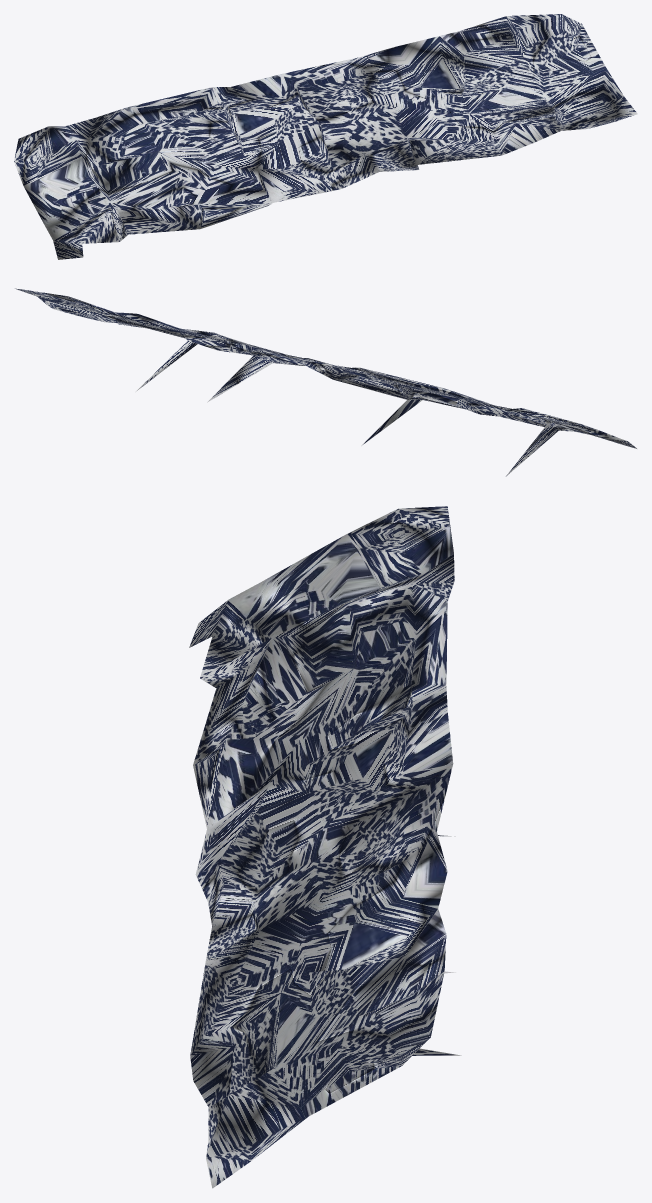
The model's file is solar_lod1.glb.
The picture shows the model from 3 angles, top to bottom: view 1: azimuth 30°, elevation 25°; view 2: azimuth 150°, elevation 25°; view 3: azimuth 270°, elevation 25°; orthographic projection. The views are drawn at different scales.
Bounding box in the file's own units: 1.89 × 0.2401 × 0.3865.
1 material, 1 textured.
